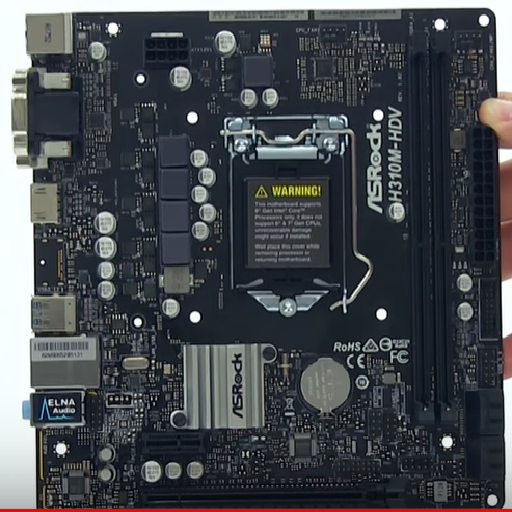CPU: (223, 117, 358, 310)
GPU: (142, 479, 409, 505)
MOTHERBOARD: (13, 10, 505, 505)
RAM: (403, 30, 465, 425)
